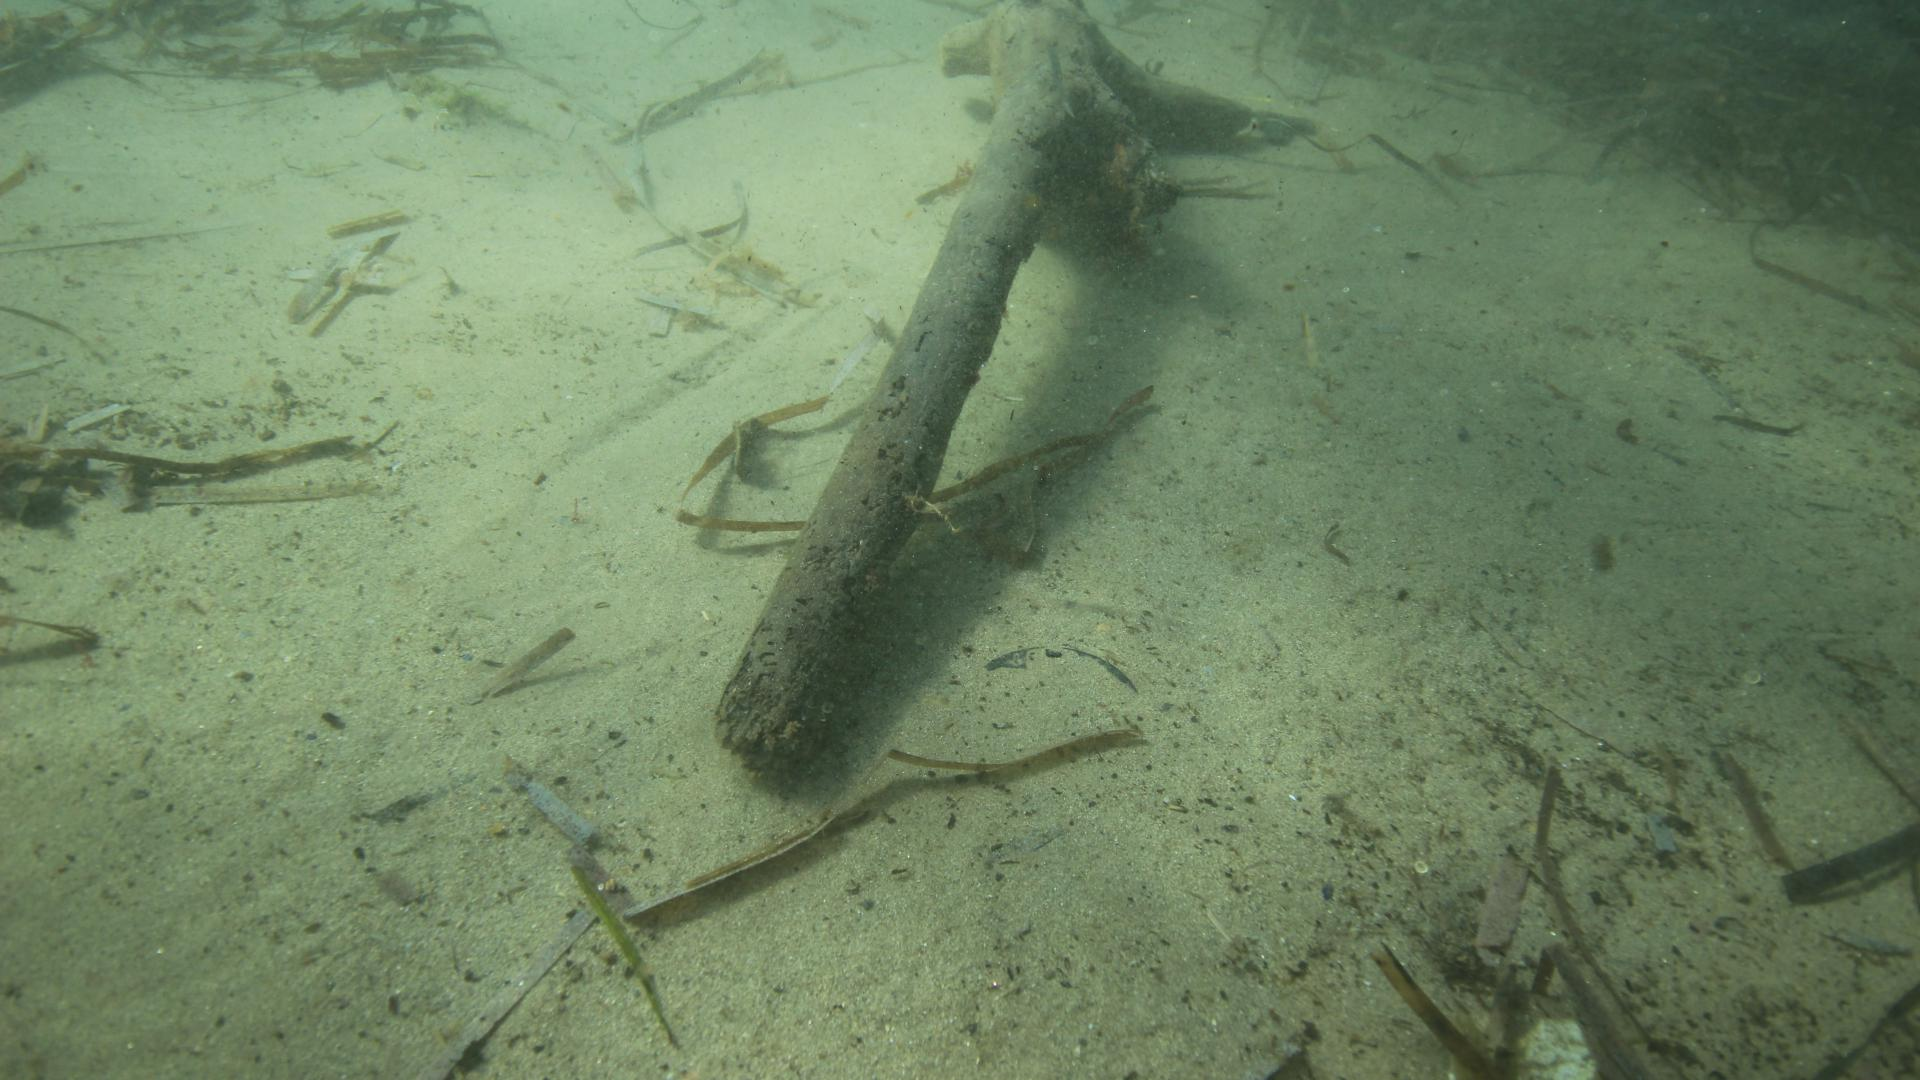wood: (717, 0, 1257, 777)
